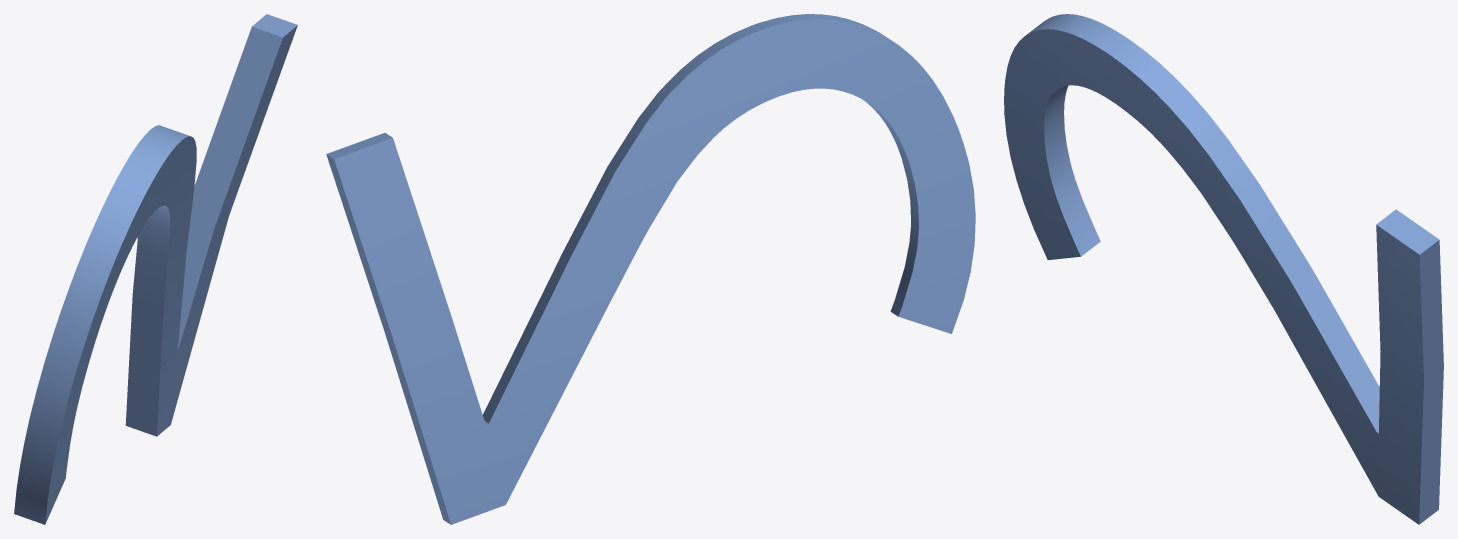
Rendered from Number_2.gltf.
3 renders of one model, left to right at view 1: azimuth 30°, elevation 25°; view 2: azimuth 150°, elevation 25°; view 3: azimuth 270°, elevation 25°, orthographic. The views are drawn at different scales.
Visible parts, largest first — view 1: Sub_3_Cell_3_1_Number_2; view 2: Sub_3_Cell_3_1_Number_2; view 3: Sub_3_Cell_3_1_Number_2.
Boxes of the visible parts, box(x1,y1,x2,y2) form: Sub_3_Cell_3_1_Number_2: box(14, 14, 297, 524); Sub_3_Cell_3_1_Number_2: box(326, 14, 975, 524); Sub_3_Cell_3_1_Number_2: box(1004, 14, 1443, 524).
Size of the model in its own units: 0.0217 by 0.0197 by 0.0191.
